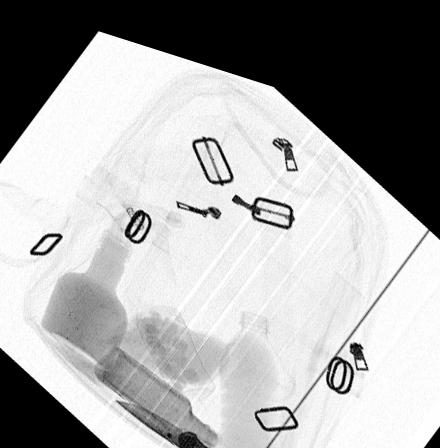Knife: (114, 392, 239, 448)
